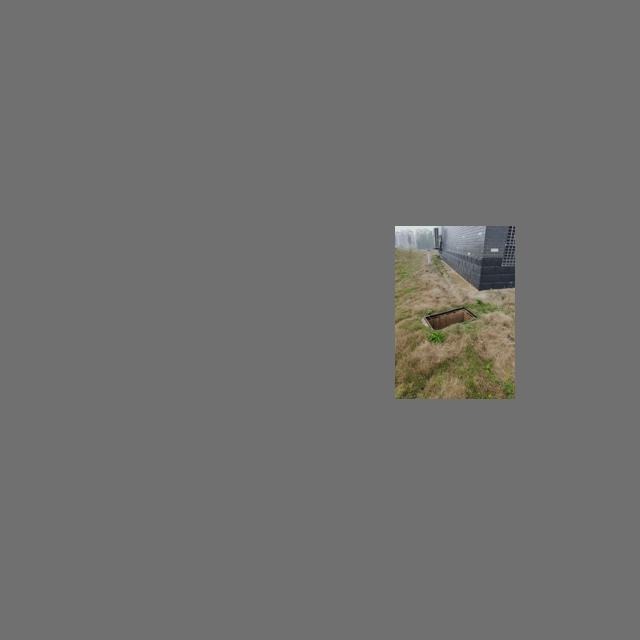lose: (425, 306, 480, 331)
